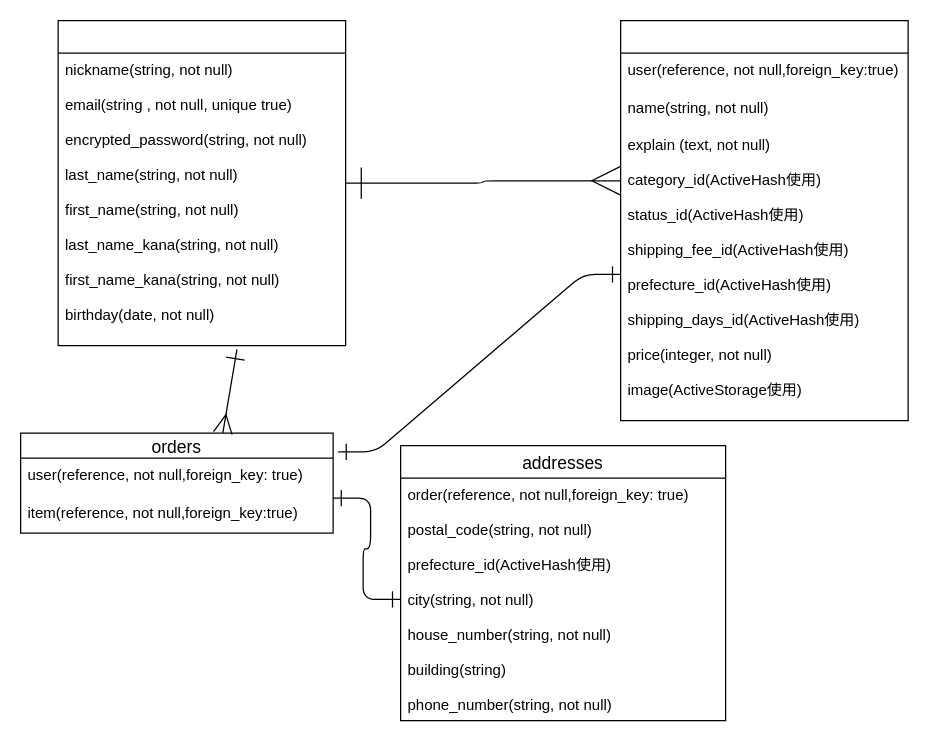
The diagram is 929 pixels wide and 741 high, and some of its shapes have lost their labels. Here are the shapes that lost their labels. From the top down, the box of each, then its label:
(57, 19, 346, 346): users
(619, 19, 908, 421): items
